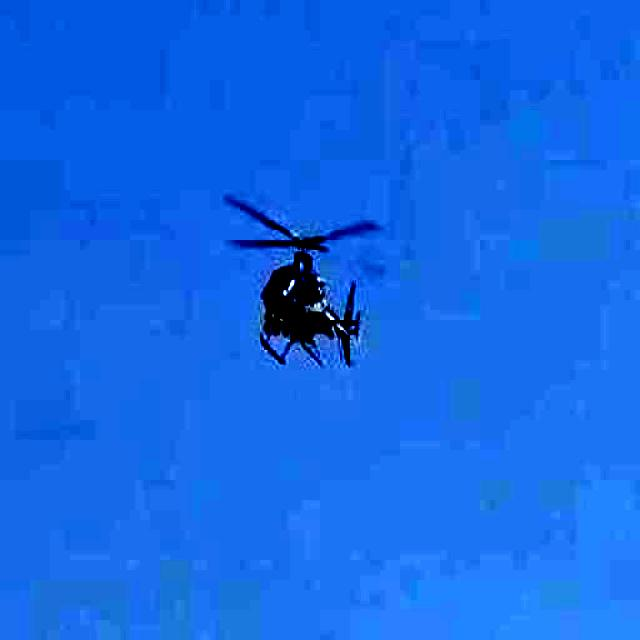drone: (178, 185, 419, 399)
